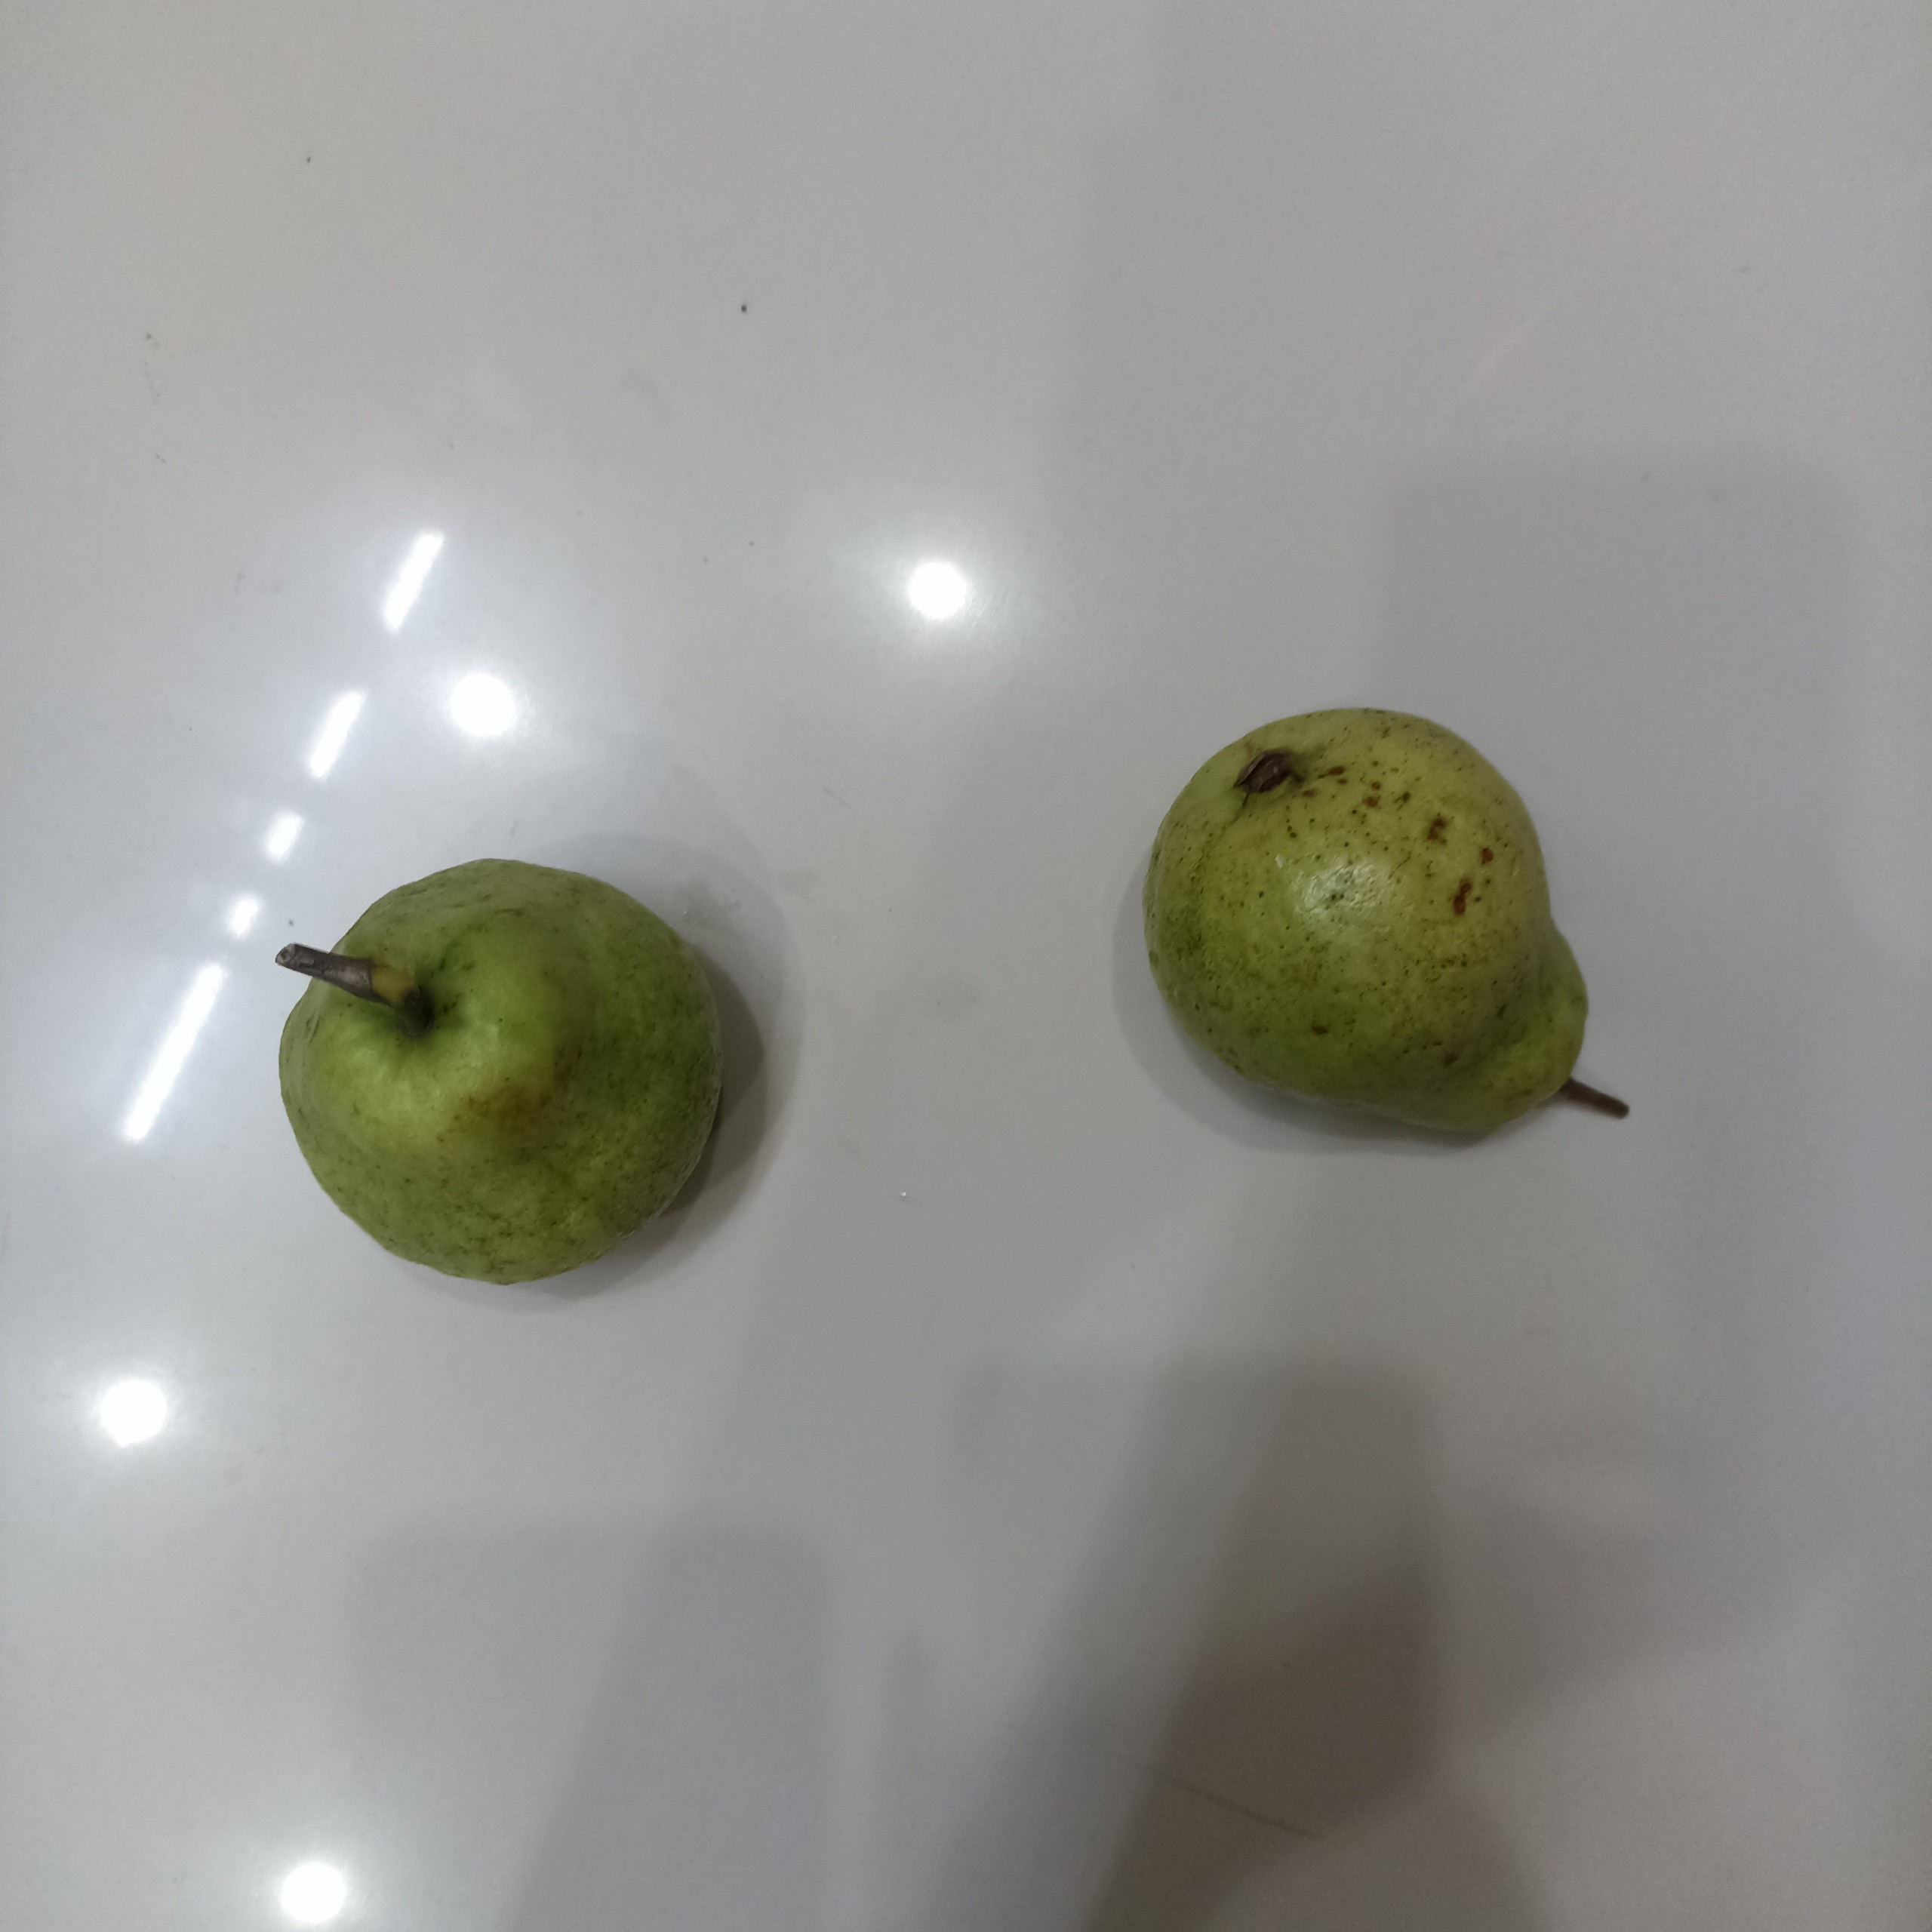Oi: (1145, 706, 1592, 1145), (283, 856, 724, 1288)
